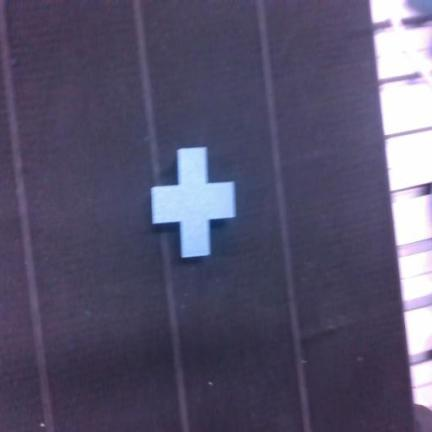cross: (152, 148, 235, 257)
